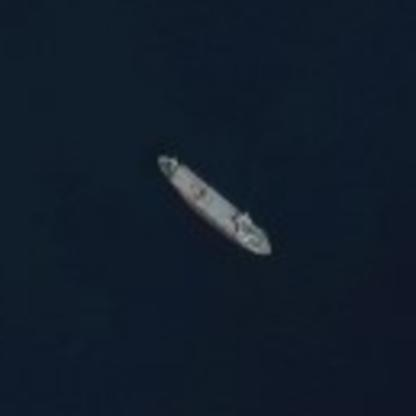ship: (151, 150, 280, 261)
